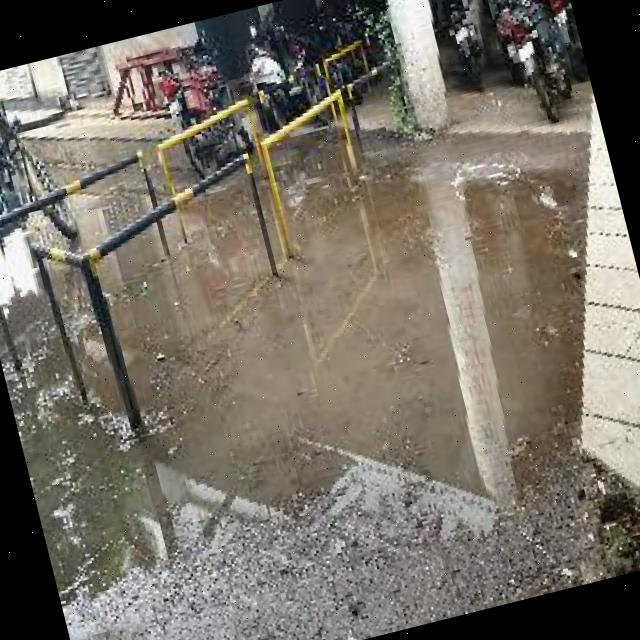stagnation: (116, 112, 594, 546)
